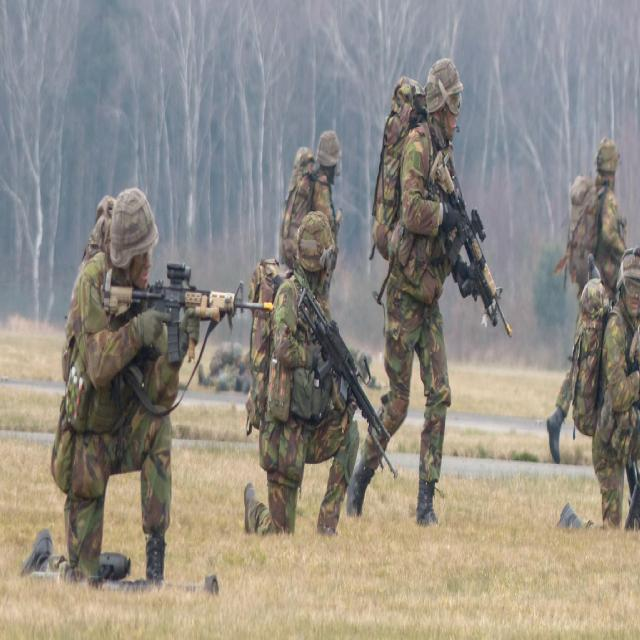Weapon: (106, 273, 266, 406), (297, 278, 390, 479), (418, 143, 496, 313)
